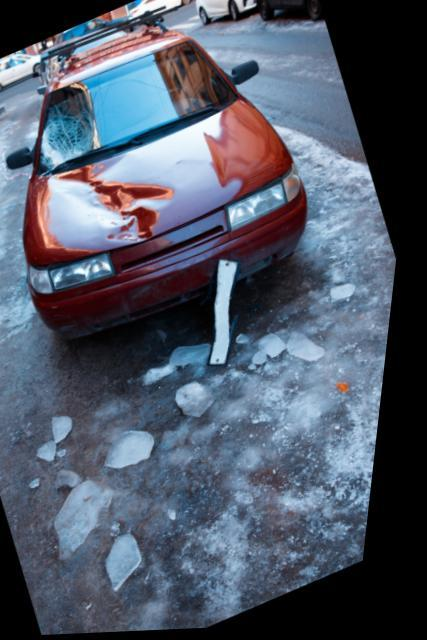dent: (50, 155, 180, 251)
glass shatter: (41, 42, 239, 175)
